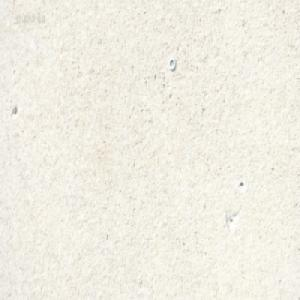Washer: (168, 56, 175, 70)
